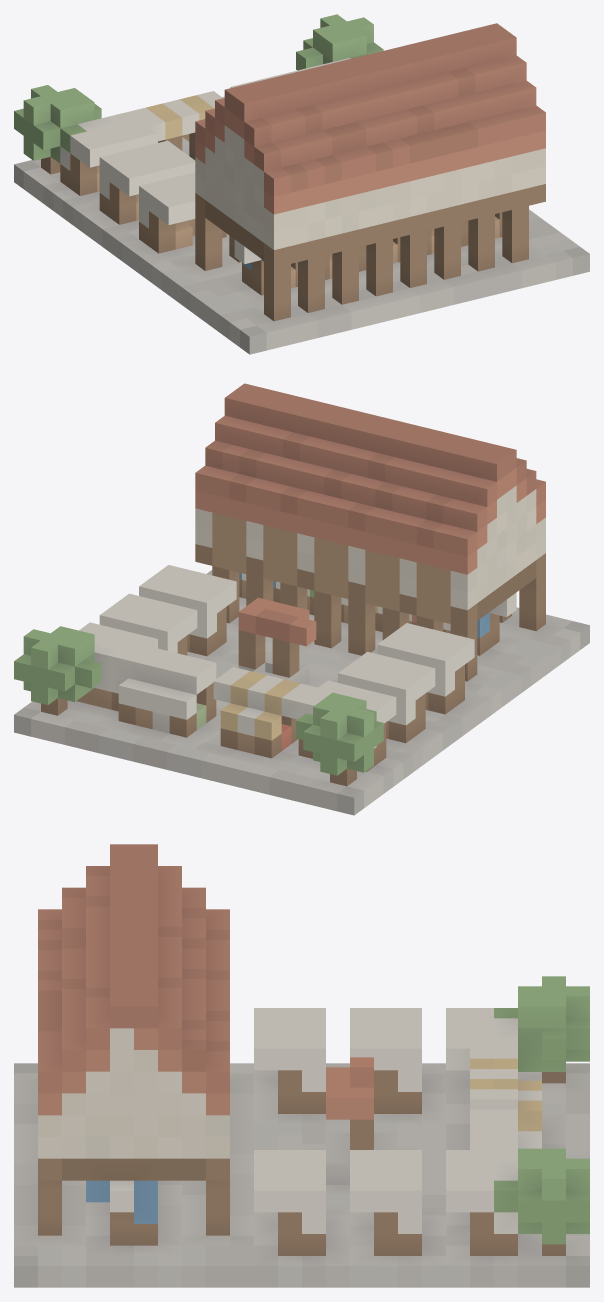
Rendered from market_small.l2.lite.glb.
3 renders of one model, top to bottom at view 1: azimuth 30°, elevation 25°; view 2: azimuth 150°, elevation 25°; view 3: azimuth 270°, elevation 25°, orthographic. The views are drawn at different scales.
Visible parts, largest first — view 1: market_small; view 2: market_small; view 3: market_small.
Boxes of the visible parts, x1=… form: market_small: x1=14, y1=14, x2=589, y2=354; market_small: x1=14, y1=383, x2=589, y2=815; market_small: x1=14, y1=844, x2=589, y2=1287.
Bounding box in the file's own units: 5 × 3 × 6.
